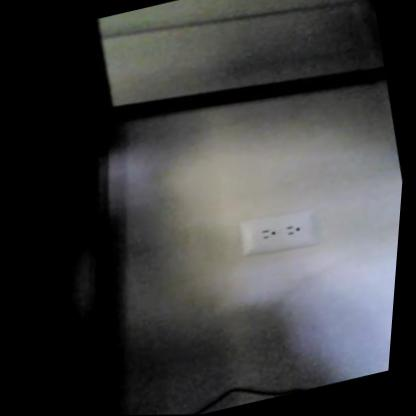OUTLET: (235, 209, 318, 262)
